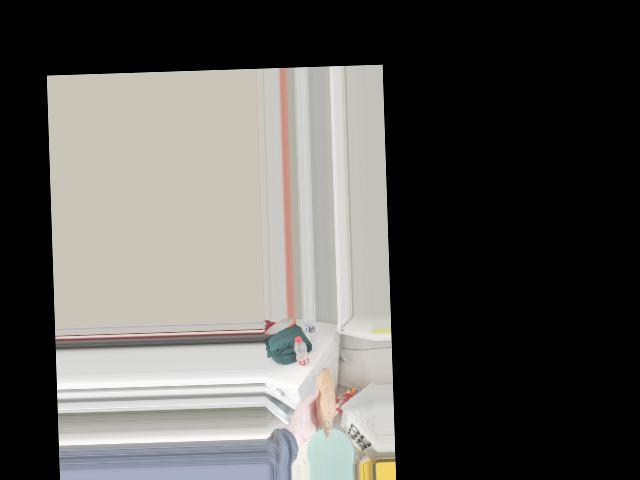sweet_potato: (316, 377, 333, 429)
